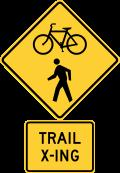Cycle Crossing: (8, 3, 106, 165)
